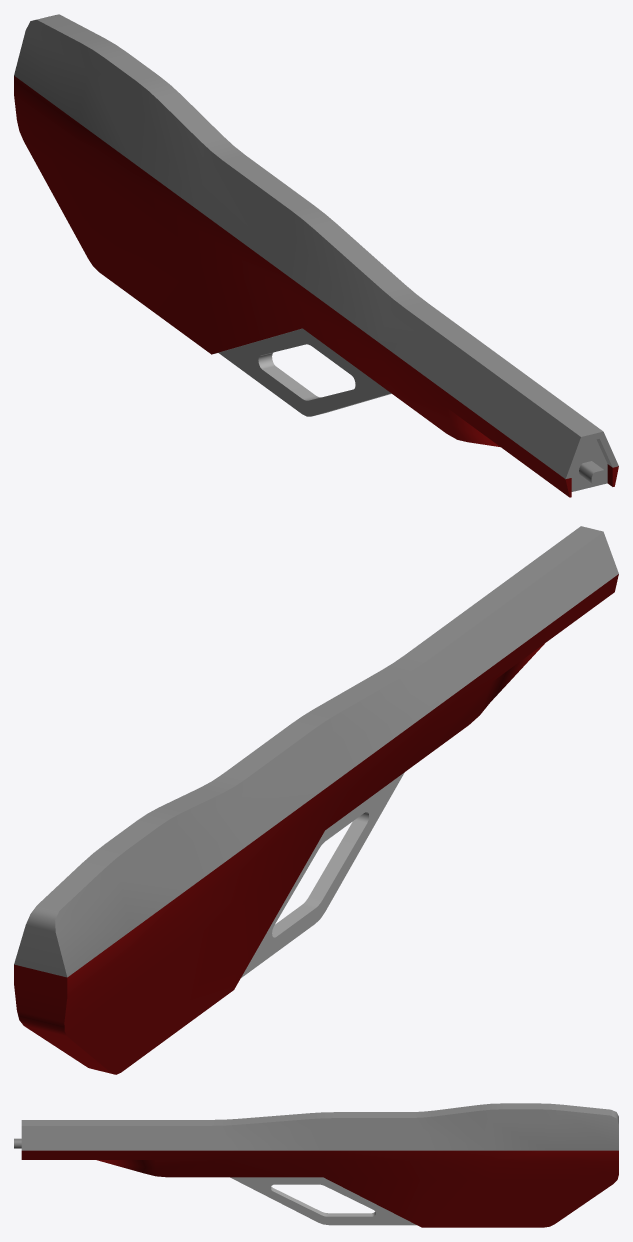
The model's file is Gun.fbx.
The picture shows the model from 3 angles, top to bottom: view 1: azimuth 30°, elevation 25°; view 2: azimuth 150°, elevation 25°; view 3: azimuth 270°, elevation 25°; orthographic projection. The views are drawn at different scales.
Visible parts, largest first — view 1: Gun; view 2: Gun; view 3: Gun.
Boxes of the visible parts, bbox=[...] form: Gun: bbox=[14, 14, 618, 497]; Gun: bbox=[14, 526, 618, 1074]; Gun: bbox=[14, 1103, 618, 1227].
Bounding box in the file's own units: 1.8 × 7.06 × 32.73.
